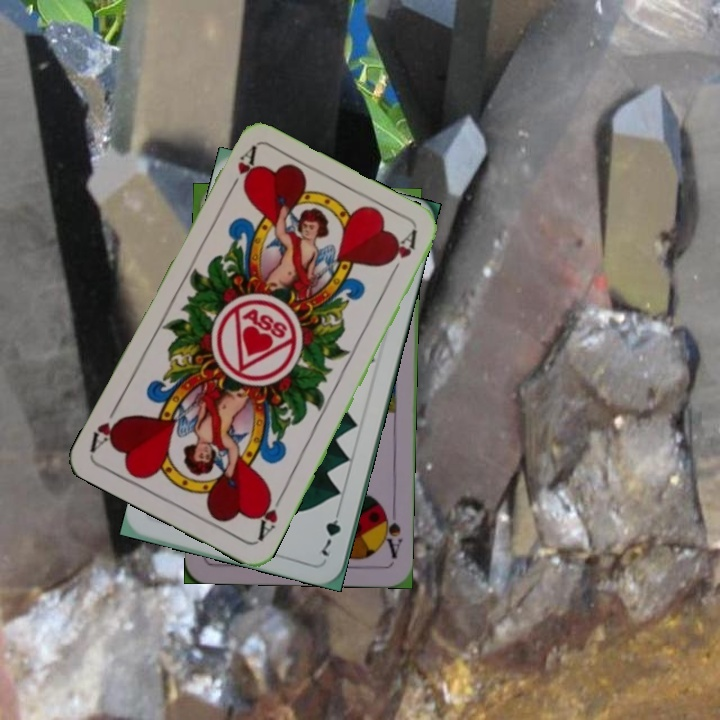G7: (317, 503, 344, 559)
HA: (222, 144, 260, 198), (253, 488, 287, 544)
SA: (378, 502, 405, 561)
